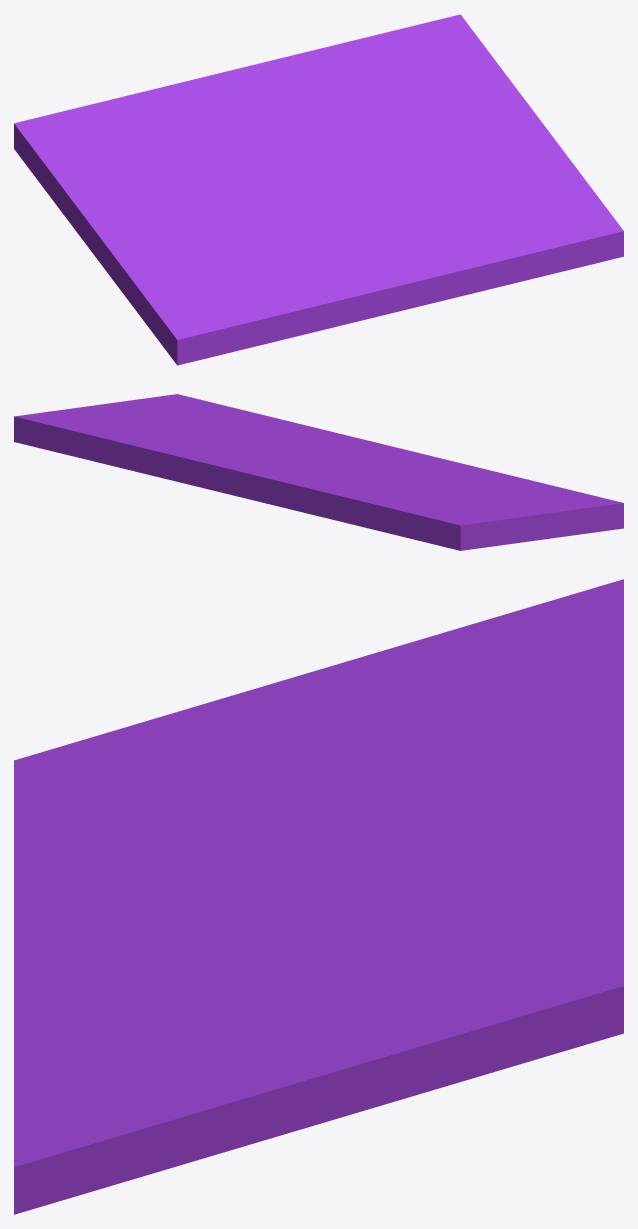
File: Window_147_chunks.fbx
3 renders of one model, top to bottom at view 1: azimuth 30°, elevation 25°; view 2: azimuth 150°, elevation 25°; view 3: azimuth 270°, elevation 25°, orthographic. The views are drawn at different scales.
Visible parts, largest first — view 1: Window_147_2, Window_147_0, Window_147_1, Window_147_3; view 2: Window_147_1, Window_147_2, Window_147_0, Window_147_3; view 3: Window_147_2, Window_147_0, Window_147_1, Window_147_3.
Boxes of the visible parts, x1,y1,x2,y2 form: Window_147_2: (318,14,623,289); Window_147_0: (85,190,488,365); Window_147_1: (14,45,333,242); Window_147_3: (68,157,334,237); Window_147_1: (135,447,532,550); Window_147_2: (14,394,324,471); Window_147_0: (323,429,623,540); Window_147_3: (294,457,546,532); Window_147_2: (14,870,623,1214); Window_147_0: (14,675,302,1034); Window_147_1: (366,579,623,870); Window_147_3: (279,639,422,889).
Size of the model in its own units: 1838 by 482 by 1165.
